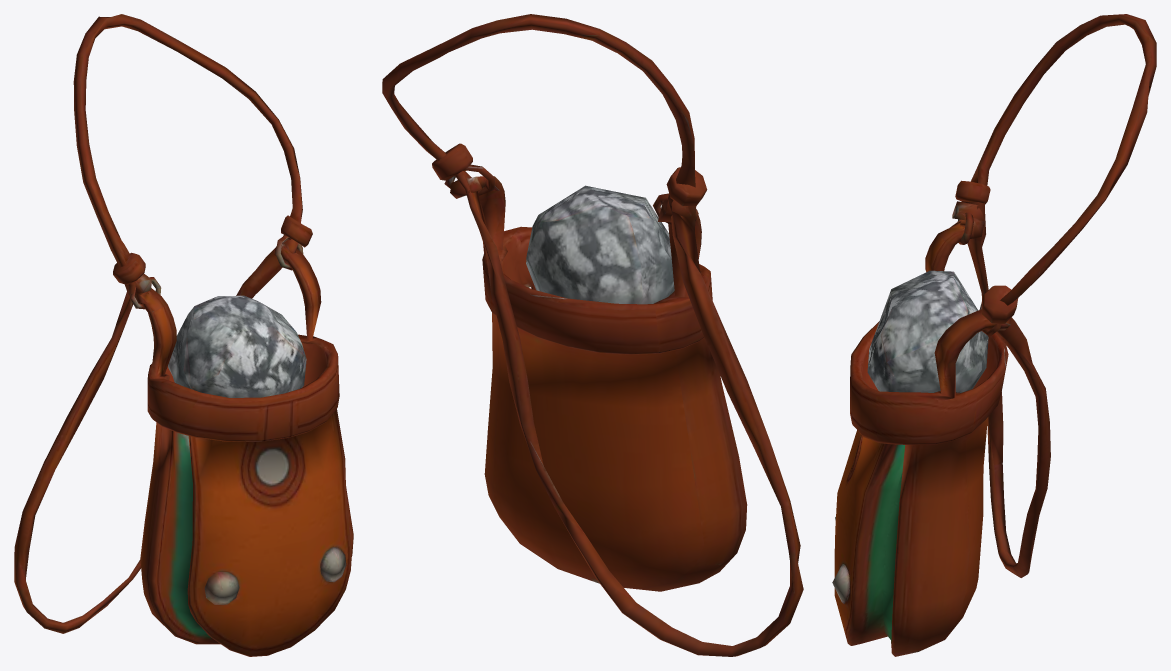
The model's file is wpn_sling.glb.
The picture shows the model from 3 angles, left to right: view 1: azimuth 30°, elevation 25°; view 2: azimuth 150°, elevation 25°; view 3: azimuth 270°, elevation 25°; orthographic projection. The views are drawn at different scales.
Size of the model in its own units: 0.5557 by 0.9517 by 0.4673.
1 material, 1 textured.
